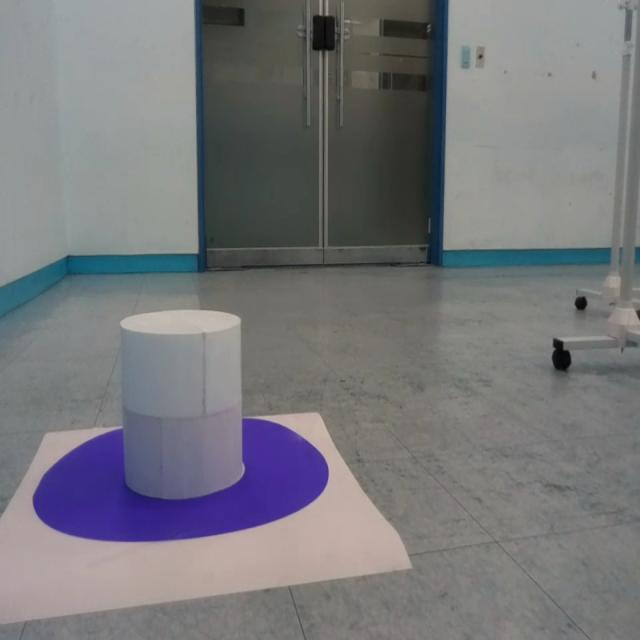cylinder: (119, 309, 245, 499)
